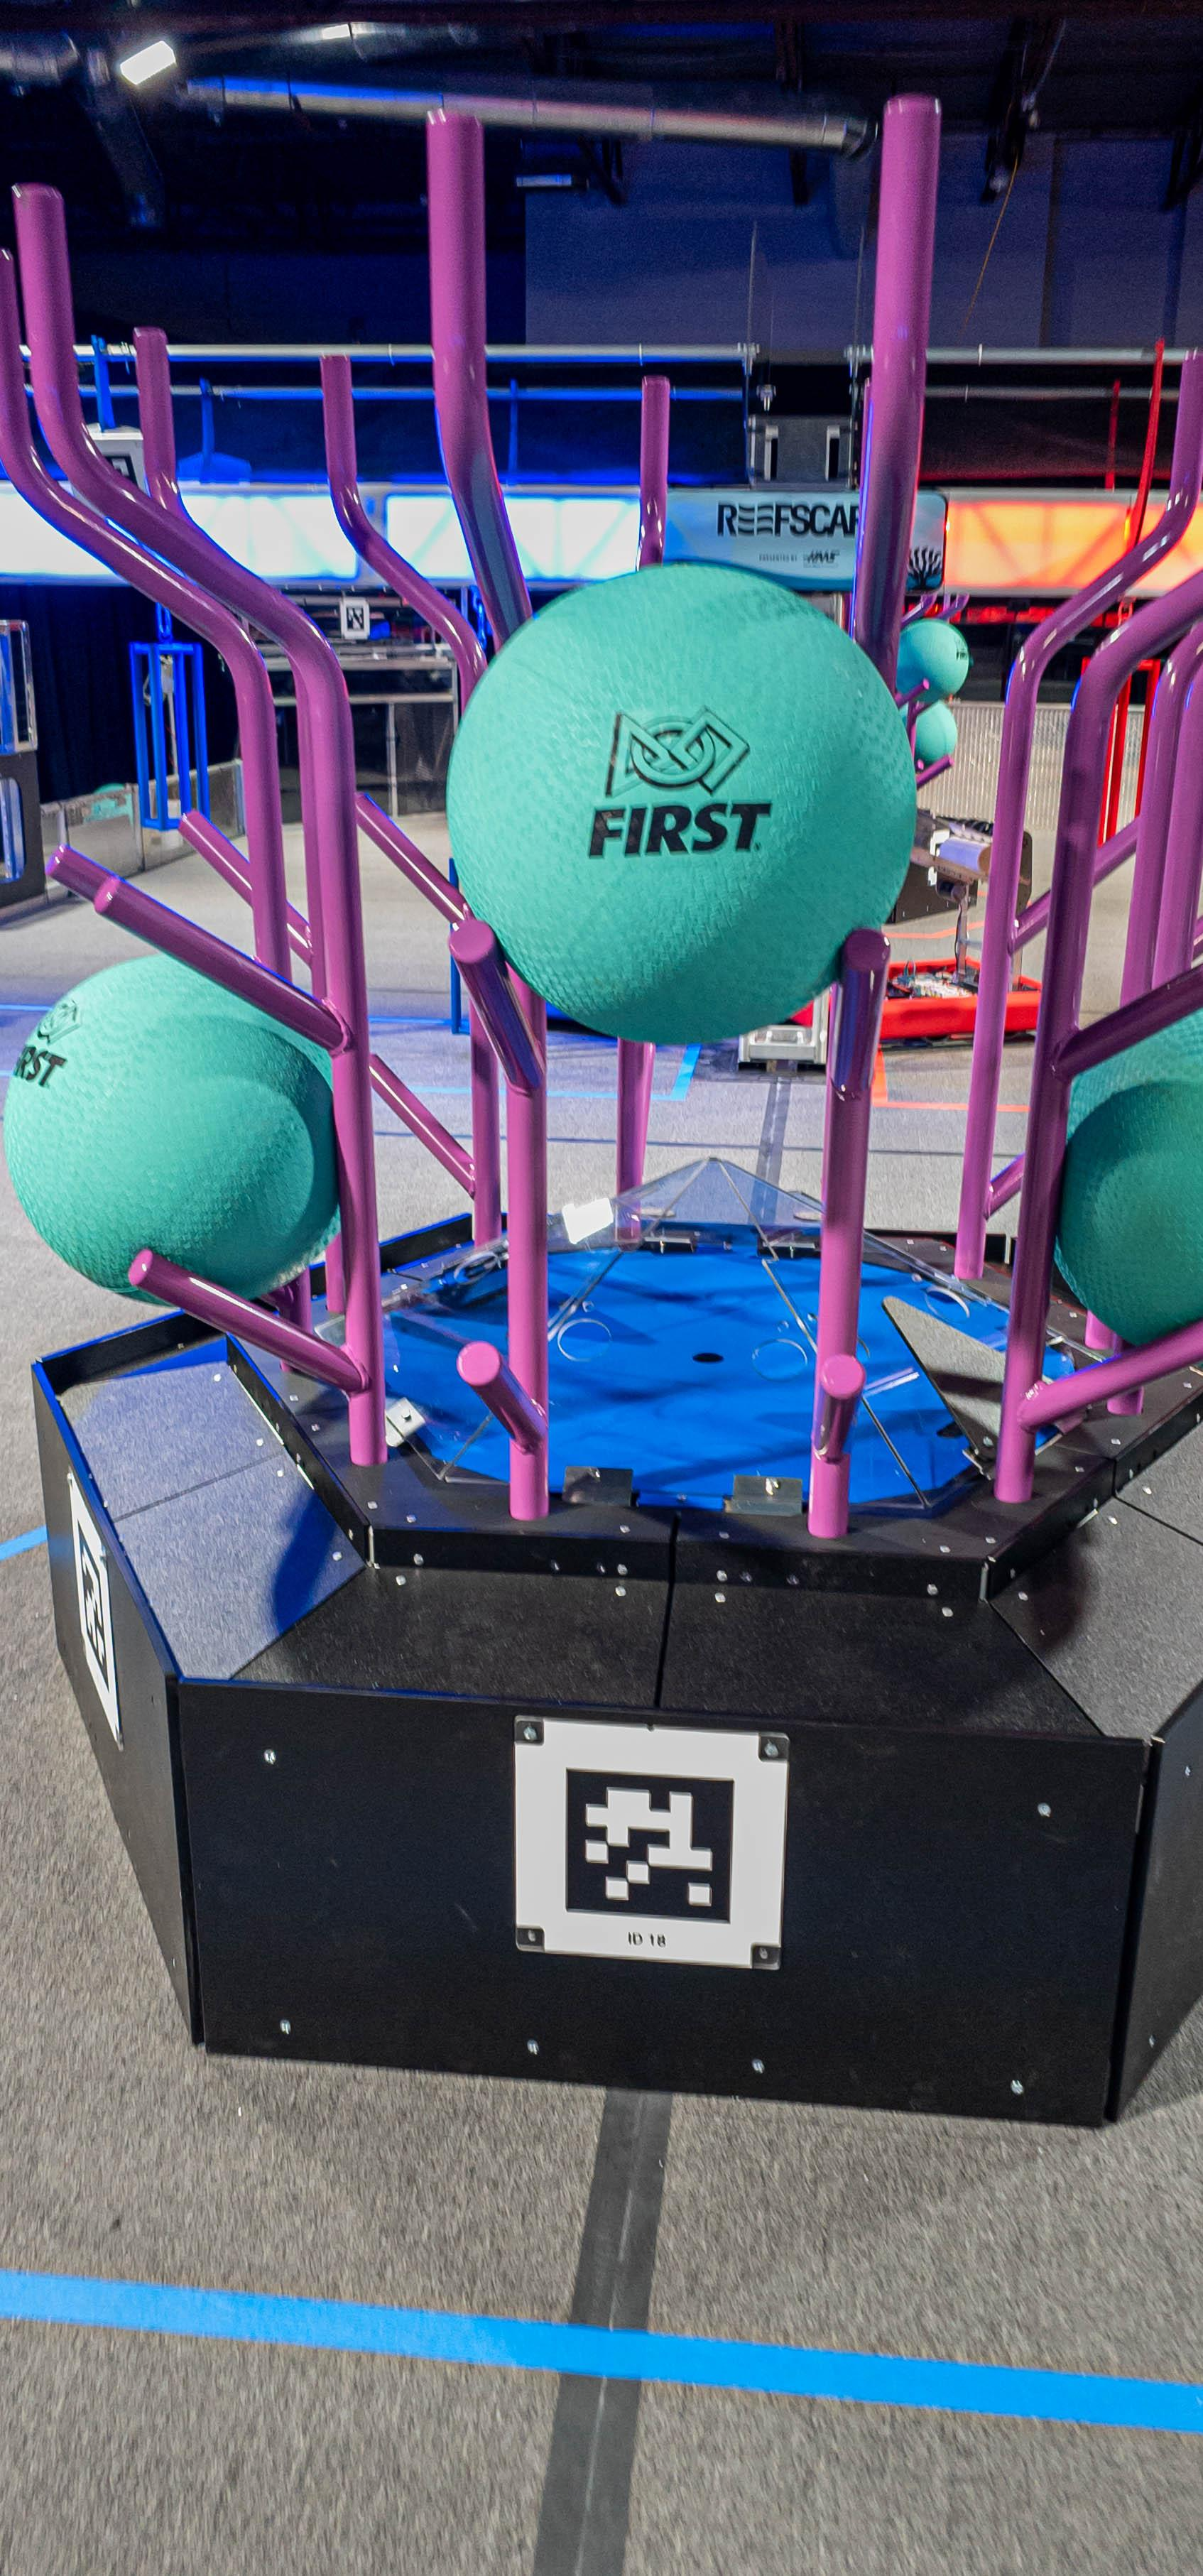ALGAE: (450, 565, 909, 1048), (15, 954, 337, 1296), (1055, 1015, 1203, 1349), (894, 621, 970, 703), (899, 700, 958, 766)
